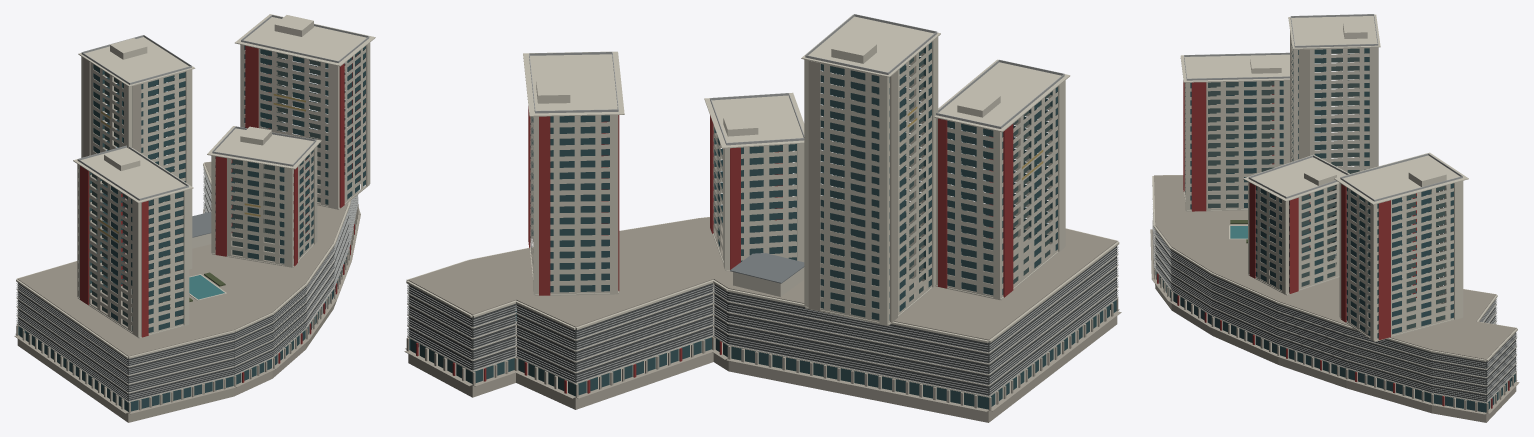
Rendered from residensi_utmkl_lod2.glb.
3 views of the same model, side by side, from view 1: azimuth 30°, elevation 25°; view 2: azimuth 150°, elevation 25°; view 3: azimuth 270°, elevation 25° (orthographic). The views are drawn at different scales.
Parts seen in each view (by area): view 1: Ivory, DeepGlass, Paving, SilkSilver, Graphite, Plinth, RedSpine, LandingGlass, Water, RoofDeck, OchreInlay; view 2: Ivory, Graphite, DeepGlass, Paving, SilkSilver, Plinth, RedSpine, LandingGlass, RoofDeck; view 3: Ivory, Graphite, Paving, DeepGlass, SilkSilver, LandingGlass, Plinth, RedSpine.
Boxes of the visible parts, left/top/right/bottom form: Ivory: left=16, top=14, right=375, bottom=402; DeepGlass: left=18, top=45, right=365, bottom=411; Paving: left=18, top=135, right=352, bottom=356; SilkSilver: left=16, top=15, right=369, bottom=401; Graphite: left=18, top=177, right=349, bottom=402; Plinth: left=14, top=58, right=360, bottom=422; RedSpine: left=80, top=45, right=365, bottom=382; LandingGlass: left=92, top=53, right=320, bottom=326; Water: left=189, top=275, right=224, bottom=299; RoofDeck: left=192, top=212, right=211, bottom=237; OchreInlay: left=98, top=94, right=305, bottom=242; Ivory: left=406, top=15, right=1119, bottom=397; Graphite: left=408, top=246, right=1116, bottom=395; DeepGlass: left=409, top=42, right=1116, bottom=409; Paving: left=408, top=203, right=1117, bottom=340; SilkSilver: left=407, top=14, right=1118, bottom=395; Plinth: left=404, top=53, right=1121, bottom=422; RedSpine: left=416, top=106, right=1013, bottom=393; LandingGlass: left=717, top=49, right=1050, bottom=301; RoofDeck: left=730, top=252, right=804, bottom=283; Ivory: left=1152, top=14, right=1517, bottom=403; Graphite: left=1155, top=230, right=1515, bottom=401; Paving: left=1154, top=175, right=1516, bottom=359; DeepGlass: left=1155, top=44, right=1515, bottom=412; SilkSilver: left=1153, top=14, right=1517, bottom=402; LandingGlass: left=1208, top=48, right=1445, bottom=329; Plinth: left=1150, top=31, right=1519, bottom=422; RedSpine: left=1157, top=81, right=1509, bottom=408.
Size of the model in its own units: 146 by 94.24 by 121.
